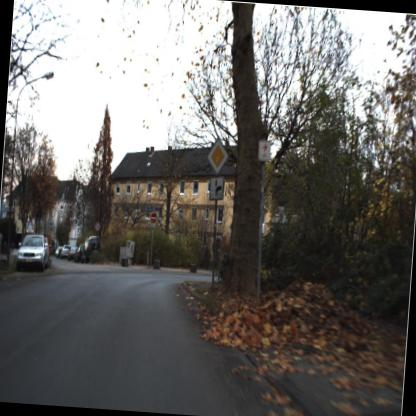other: (203, 132, 234, 180), (146, 205, 161, 230)
prohibitory: (90, 218, 106, 236)
